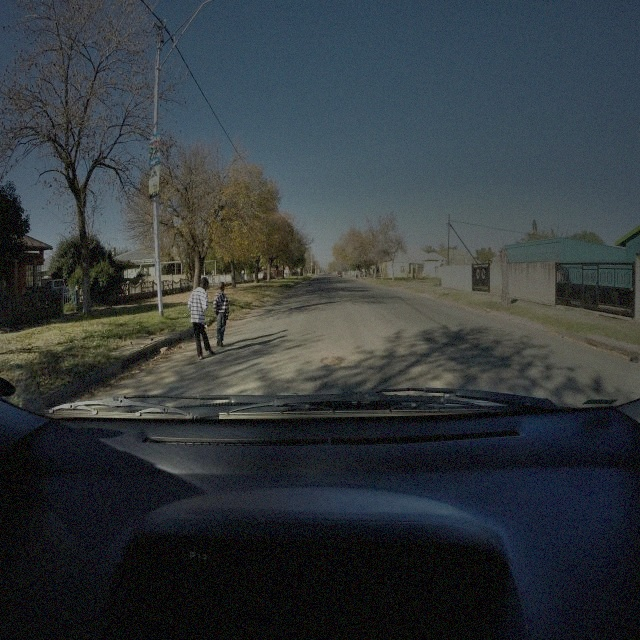pothole: (319, 352, 350, 368)
